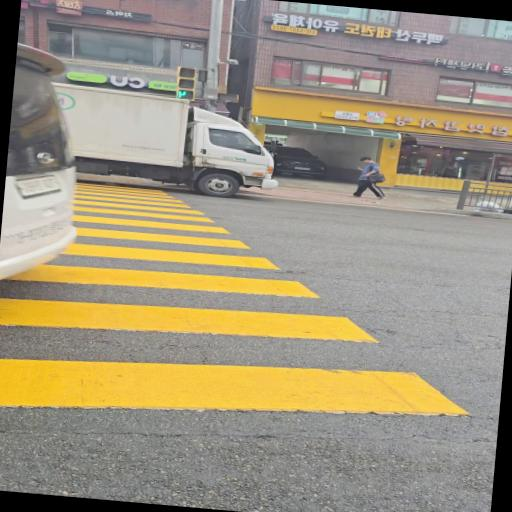yellow-crosswalk: (0, 167, 512, 462)
